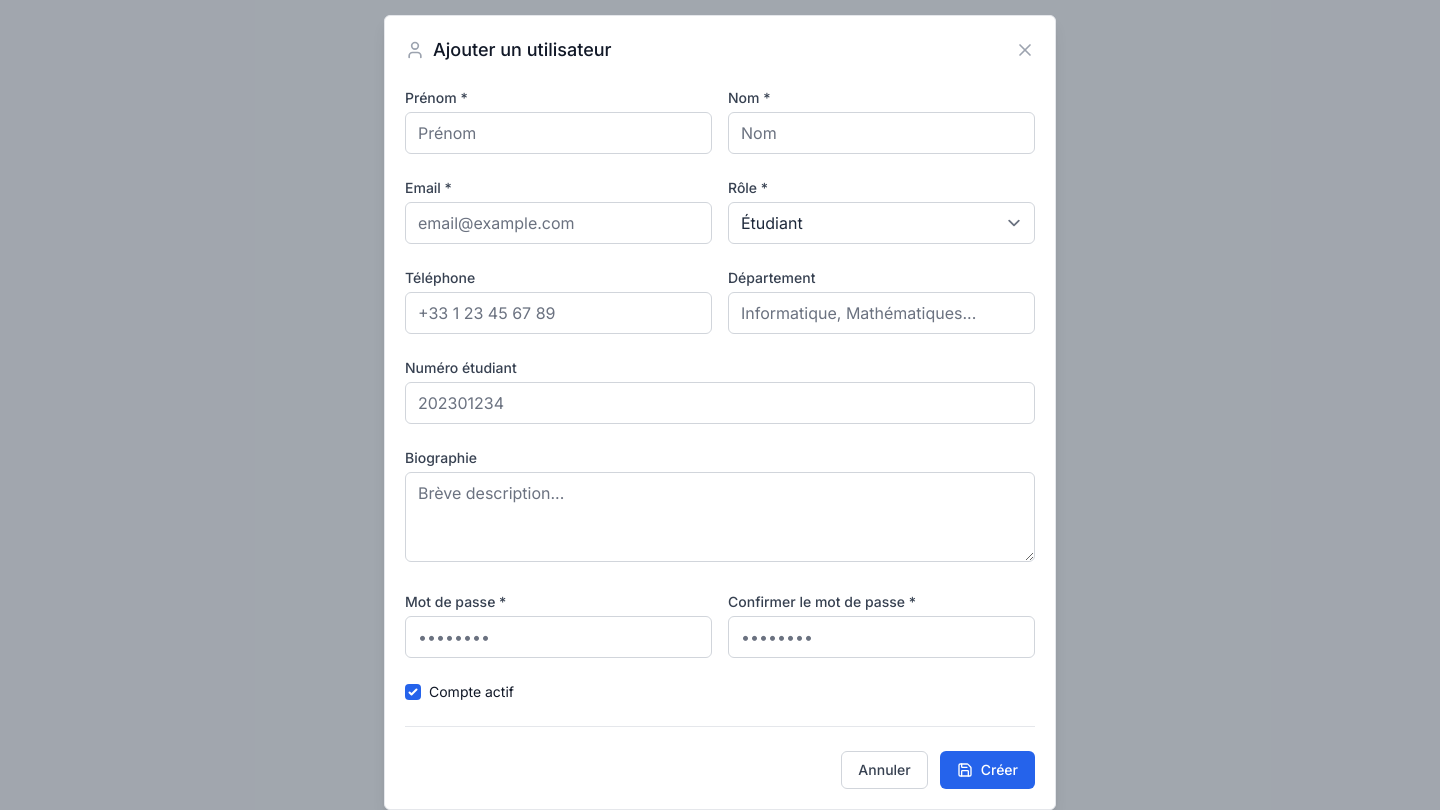
Test case: UserForm › form validation › should show validation errors for required fields
(page scrolled)
Click the button "Créer" at (987, 770), box [940,751,1035,789]
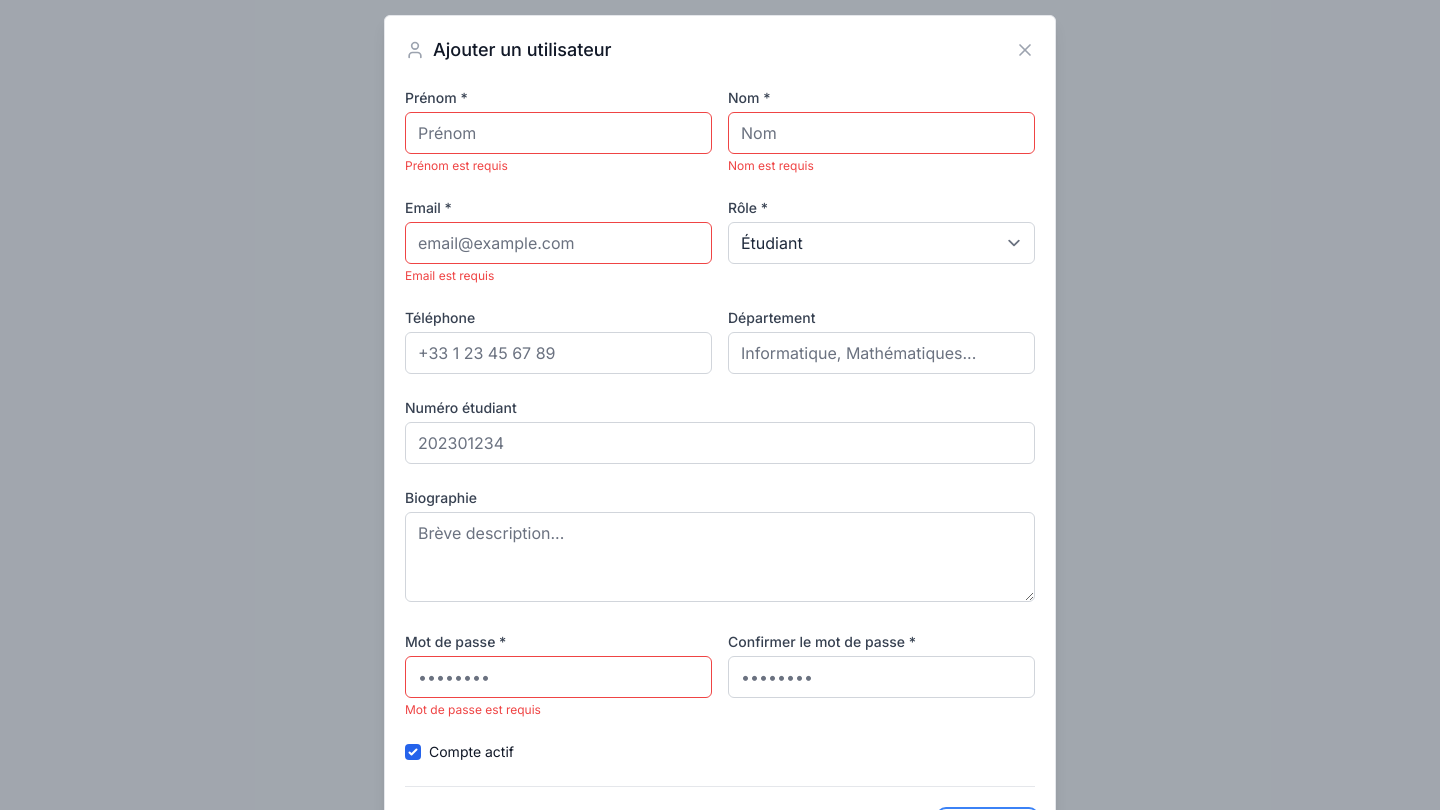
Expected: the text "Email est requis" is shown, [405,268,494,283]
Expected: the text "Prénom est requis" is shown, [405,158,508,173]
Expected: the text "Nom est requis" is shown, [728,158,814,173]
